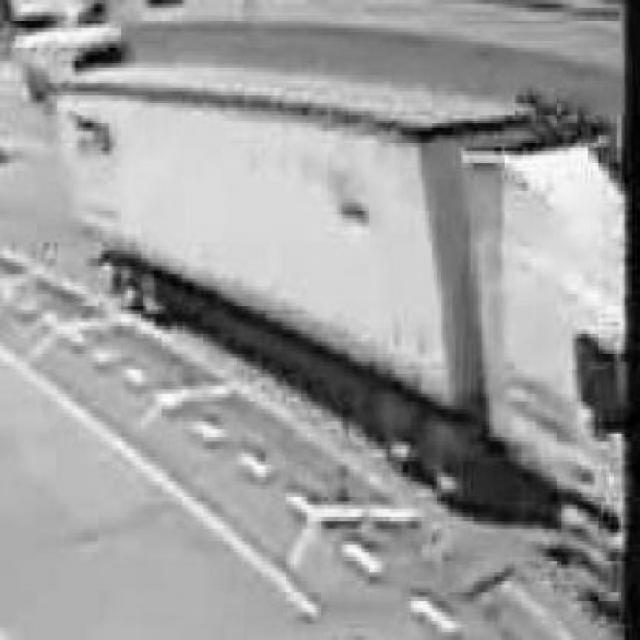Box Truck: (69, 65, 628, 604)
